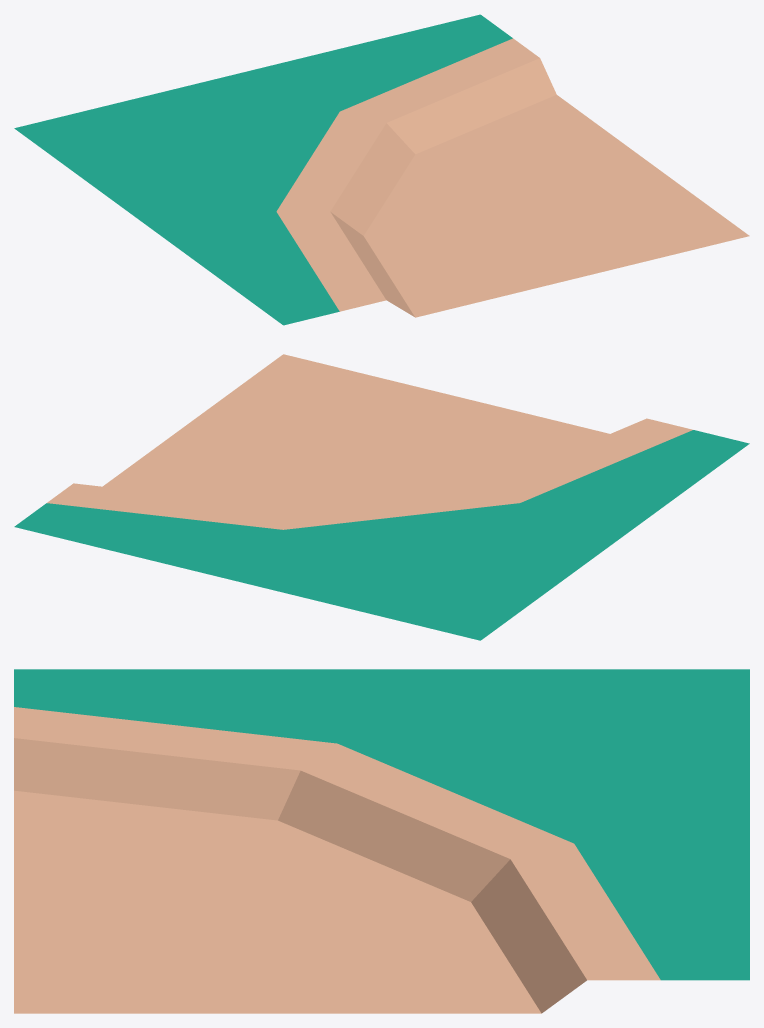
Rendered from ground_pathCorner.glb.
The picture shows the model from 3 angles, top to bottom: view 1: azimuth 30°, elevation 25°; view 2: azimuth 150°, elevation 25°; view 3: azimuth 270°, elevation 25°; orthographic projection. The views are drawn at different scales.
Parts seen in each view (by area): view 1: ground_pathCorner; view 2: ground_pathCorner; view 3: ground_pathCorner.
Part boxes in pixels (x1=…): ground_pathCorner: x1=14, y1=14, x2=749, y2=325; ground_pathCorner: x1=14, y1=354, x2=749, y2=640; ground_pathCorner: x1=14, y1=669, x2=749, y2=1013.
Size of the model in its own units: 1 by 0.05 by 1.
